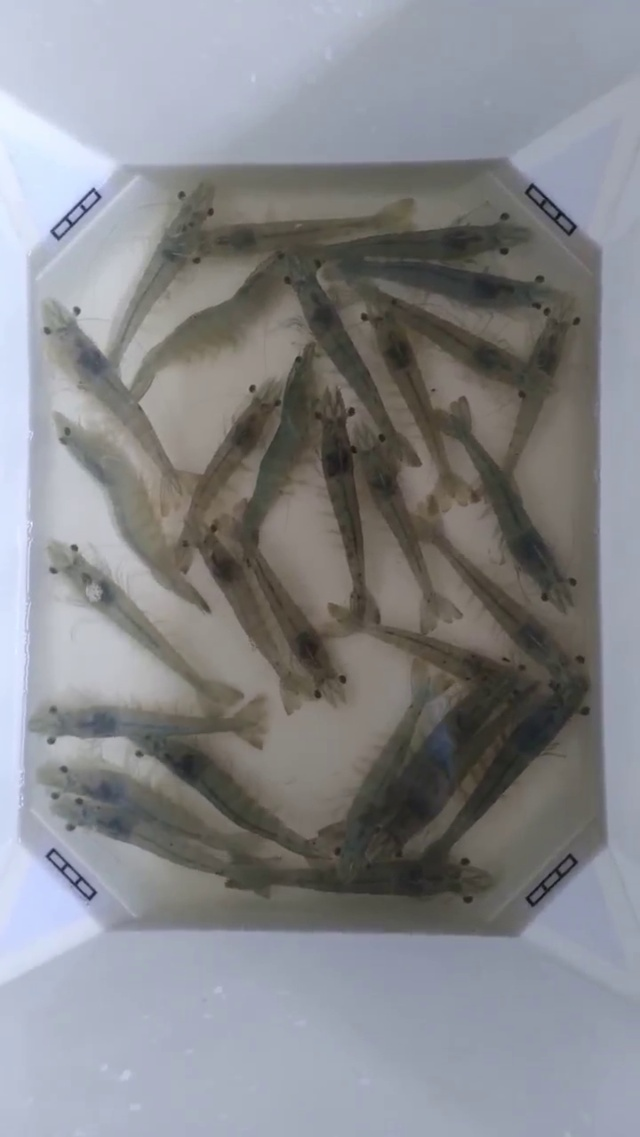shrimp: (517, 126, 639, 487), (521, 458, 639, 717), (0, 321, 102, 552), (460, 557, 585, 744), (565, 508, 639, 805), (187, 513, 308, 681), (404, 763, 519, 930), (0, 708, 96, 902), (120, 759, 227, 927), (308, 201, 415, 362), (29, 463, 121, 647), (472, 304, 570, 476), (119, 181, 213, 348), (440, 397, 535, 558), (177, 400, 265, 569), (309, 319, 402, 476), (43, 299, 149, 434), (188, 169, 282, 313), (29, 202, 105, 370), (290, 774, 371, 926), (451, 205, 551, 309), (78, 706, 195, 770), (126, 523, 210, 611), (0, 578, 28, 841), (314, 595, 380, 706)
